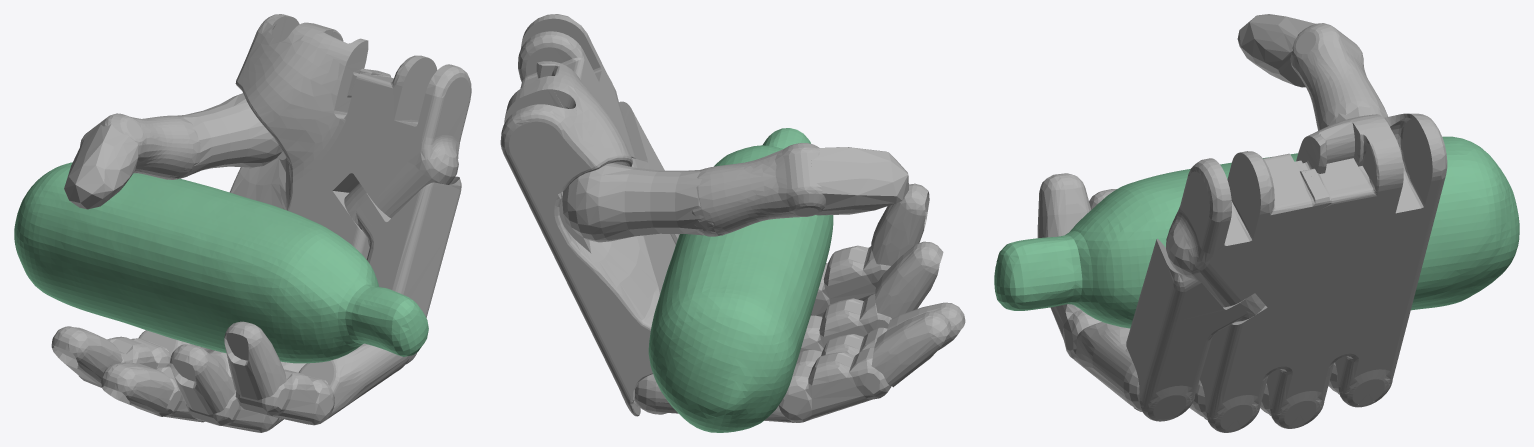
The picture shows the model from 3 angles, left to right: view 1: azimuth 30°, elevation 25°; view 2: azimuth 150°, elevation 25°; view 3: azimuth 270°, elevation 25°; orthographic projection. The views are drawn at different scales.
Visible parts, largest first — view 1: world; view 2: world; view 3: world.
Boxes of the visible parts, <box> form: world: <box>14,14,471,432</box>; world: <box>500,14,965,432</box>; world: <box>994,14,1519,432</box>.
Bounding box in the file's own units: 1.06 × 0.7528 × 1.05.
